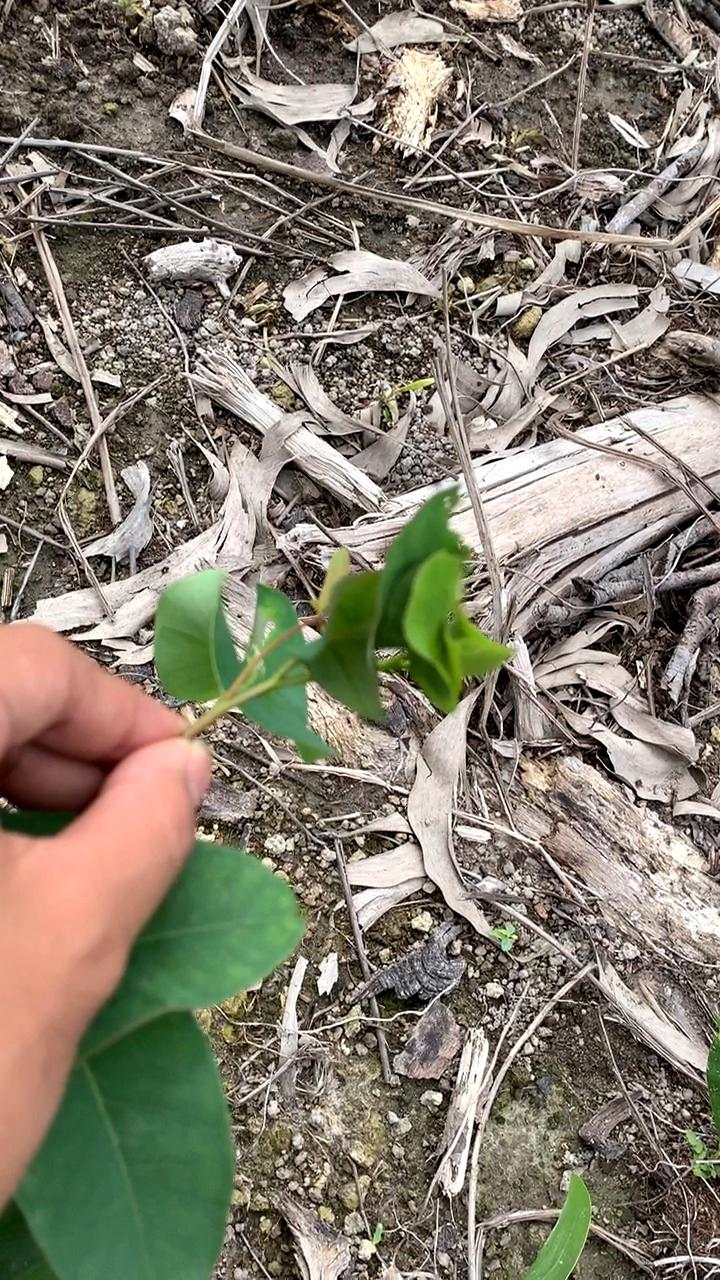Leaf Roller - Leaf: (288, 505, 519, 737)
